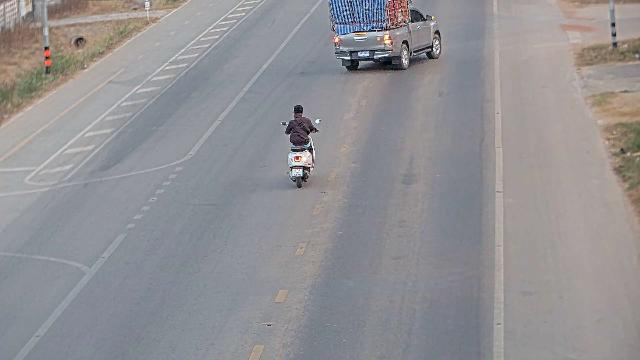motorcycle: (283, 113, 321, 187)
pickup-truck: (327, 0, 442, 71)
